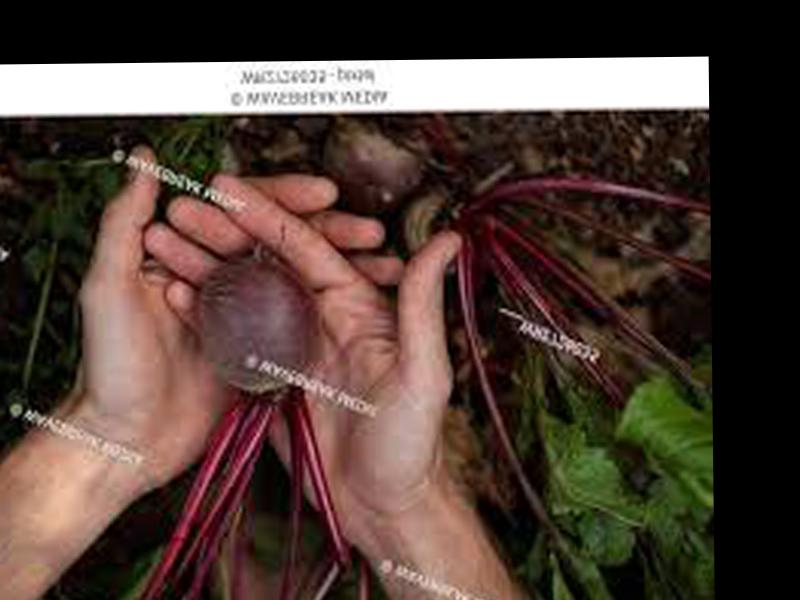Beet: (108, 241, 353, 600)
